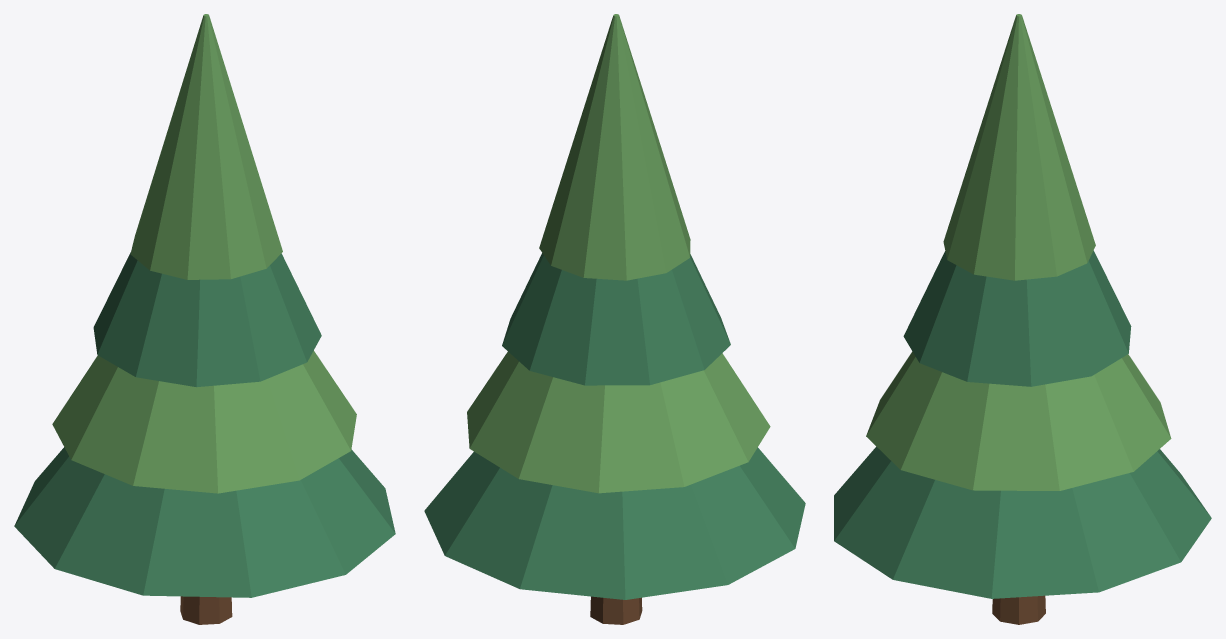
Rendered from Pino.fbx.
The picture shows the model from 3 angles, left to right: view 1: azimuth 30°, elevation 25°; view 2: azimuth 150°, elevation 25°; view 3: azimuth 270°, elevation 25°; orthographic projection.
Visible parts, largest first — view 1: Pino; view 2: Pino; view 3: Pino.
Boxes of the visible parts, x1,y1,x2,y2 form: Pino: (14, 14, 395, 624); Pino: (424, 14, 805, 624); Pino: (834, 14, 1211, 624).
Bounding box in the file's own units: 3.27 × 5.65 × 3.23.
